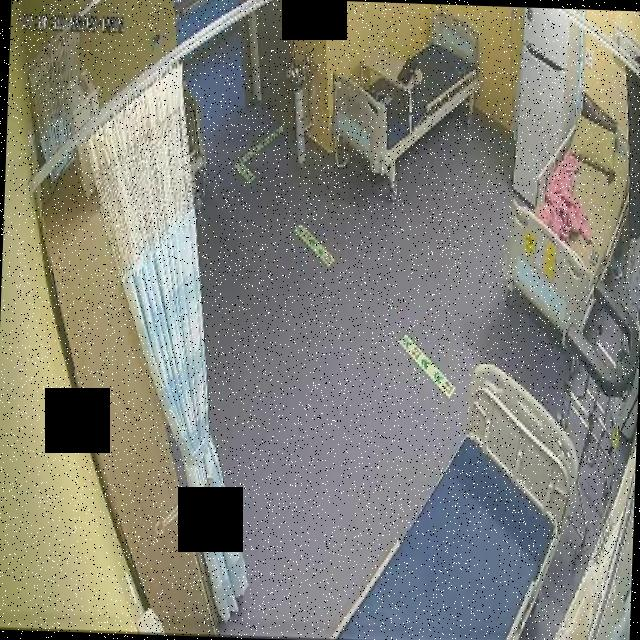bed: (331, 359, 582, 640), (496, 102, 634, 336), (328, 6, 484, 180)
